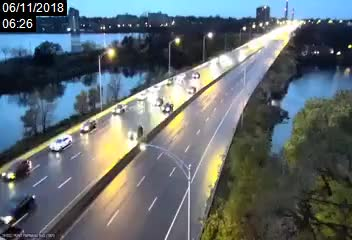personal_car: (1, 189, 35, 224), (1, 159, 34, 180), (45, 130, 70, 149), (78, 115, 96, 133), (111, 103, 127, 115), (161, 102, 173, 112), (136, 92, 148, 102), (186, 86, 196, 94), (191, 71, 200, 79)
